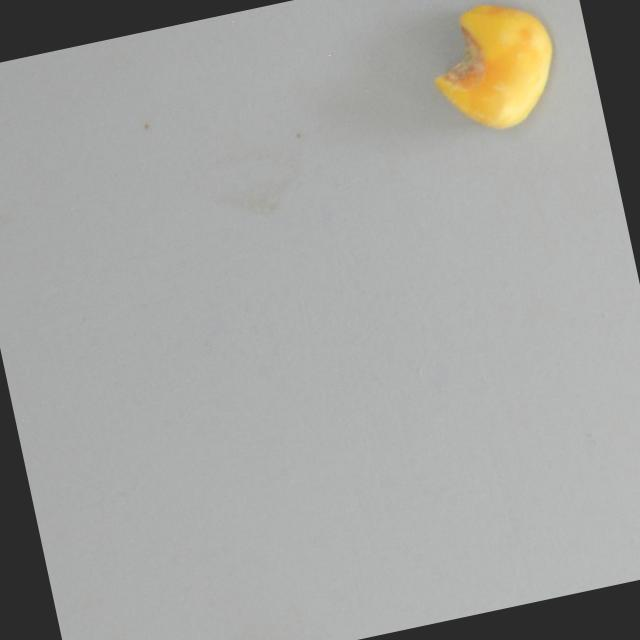dañado: (406, 0, 580, 151)
